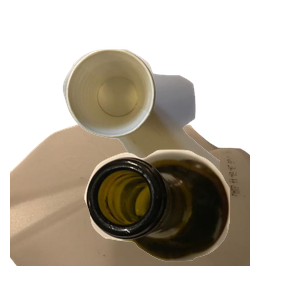glass: (82, 147, 300, 300)
metal: (99, 70, 236, 176)
plastic: (10, 120, 250, 300)
trash: (60, 47, 300, 227)
